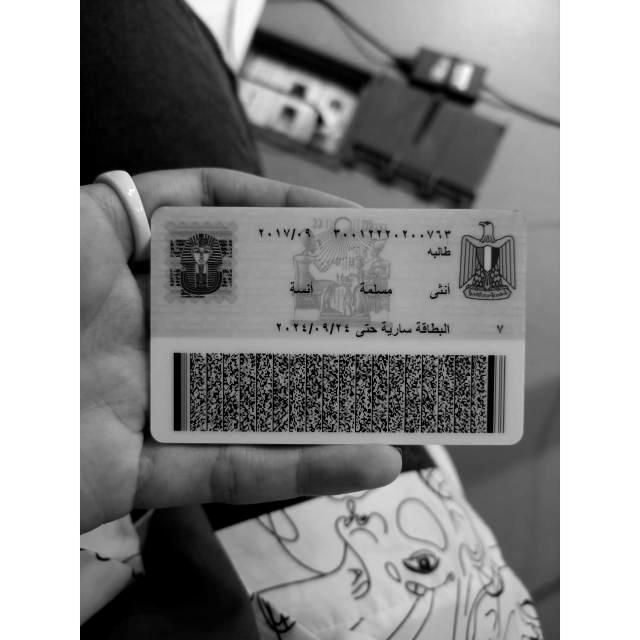id_card: (150, 206, 526, 443)
